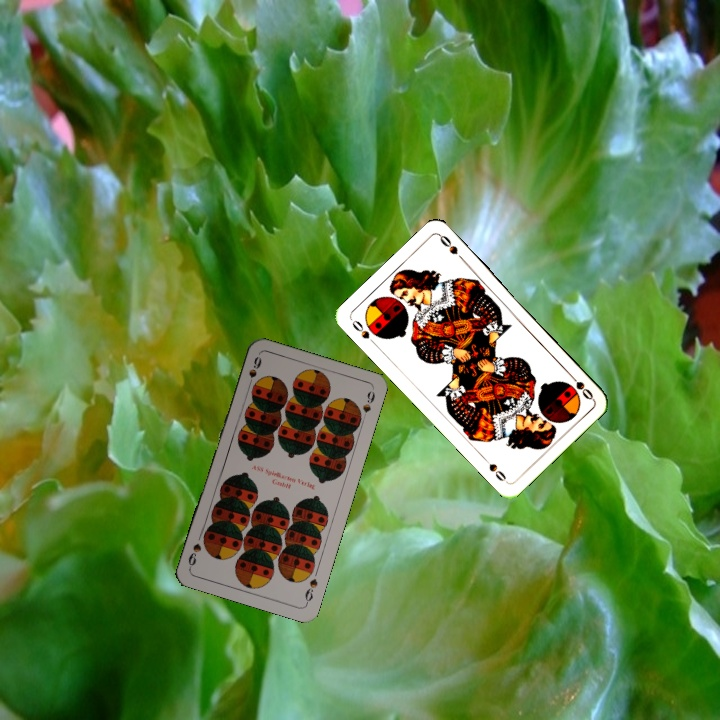S9: (243, 352, 264, 391), (301, 575, 320, 607)
SO: (564, 369, 596, 402), (348, 316, 379, 348)
